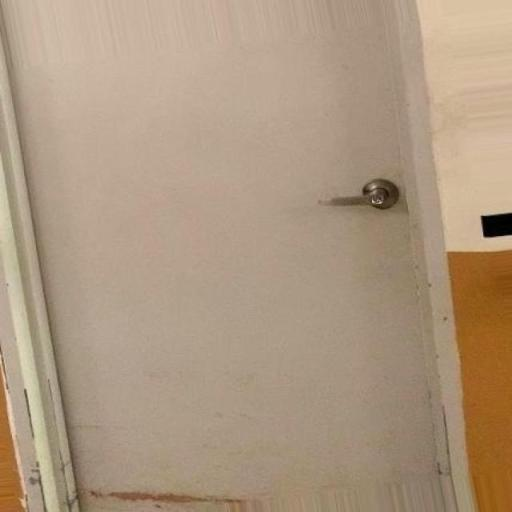door: (0, 0, 482, 511)
